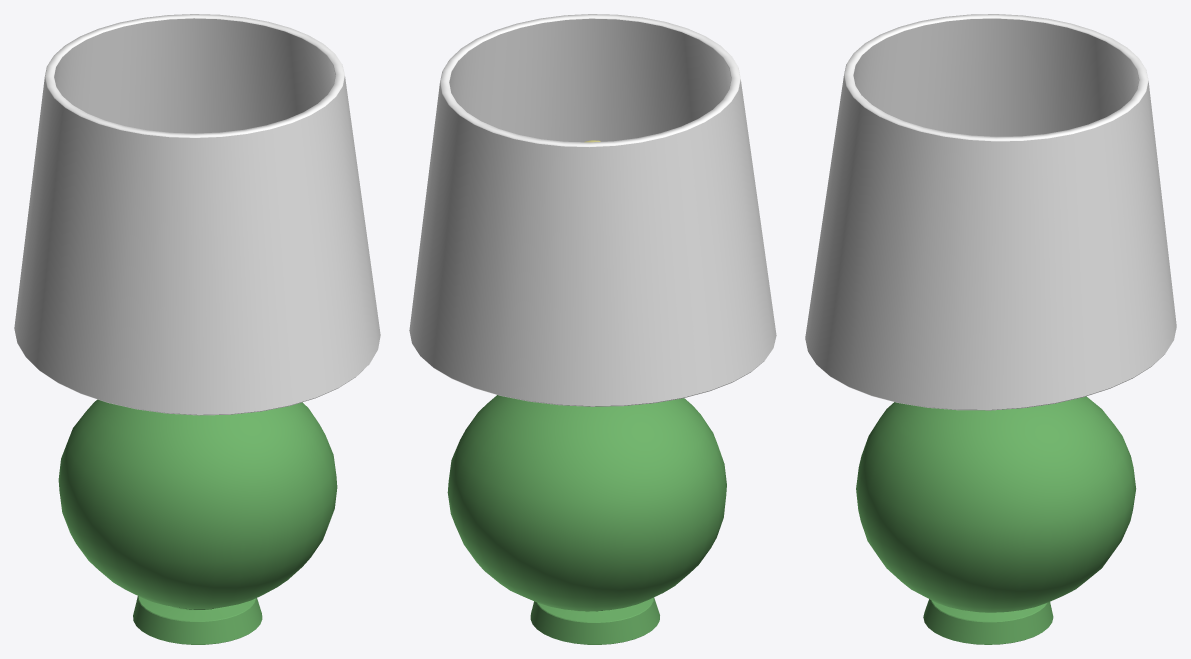
Rendered from Lamp_Bedside.glb.
The picture shows the model from 3 angles, left to right: view 1: azimuth 30°, elevation 25°; view 2: azimuth 150°, elevation 25°; view 3: azimuth 270°, elevation 25°; orthographic projection.
Parts seen in each view (by area): view 1: Lamp_bedside; view 2: Lamp_bedside; view 3: Lamp_bedside.
Part boxes in pixels (x1,y1,x2,y2): Lamp_bedside: [14, 14, 380, 644]; Lamp_bedside: [409, 14, 776, 644]; Lamp_bedside: [805, 14, 1176, 644].
Bounding box in the file's own units: 0.3489 × 0.5715 × 0.354.
Materials: 4 (3 with a texture image).
